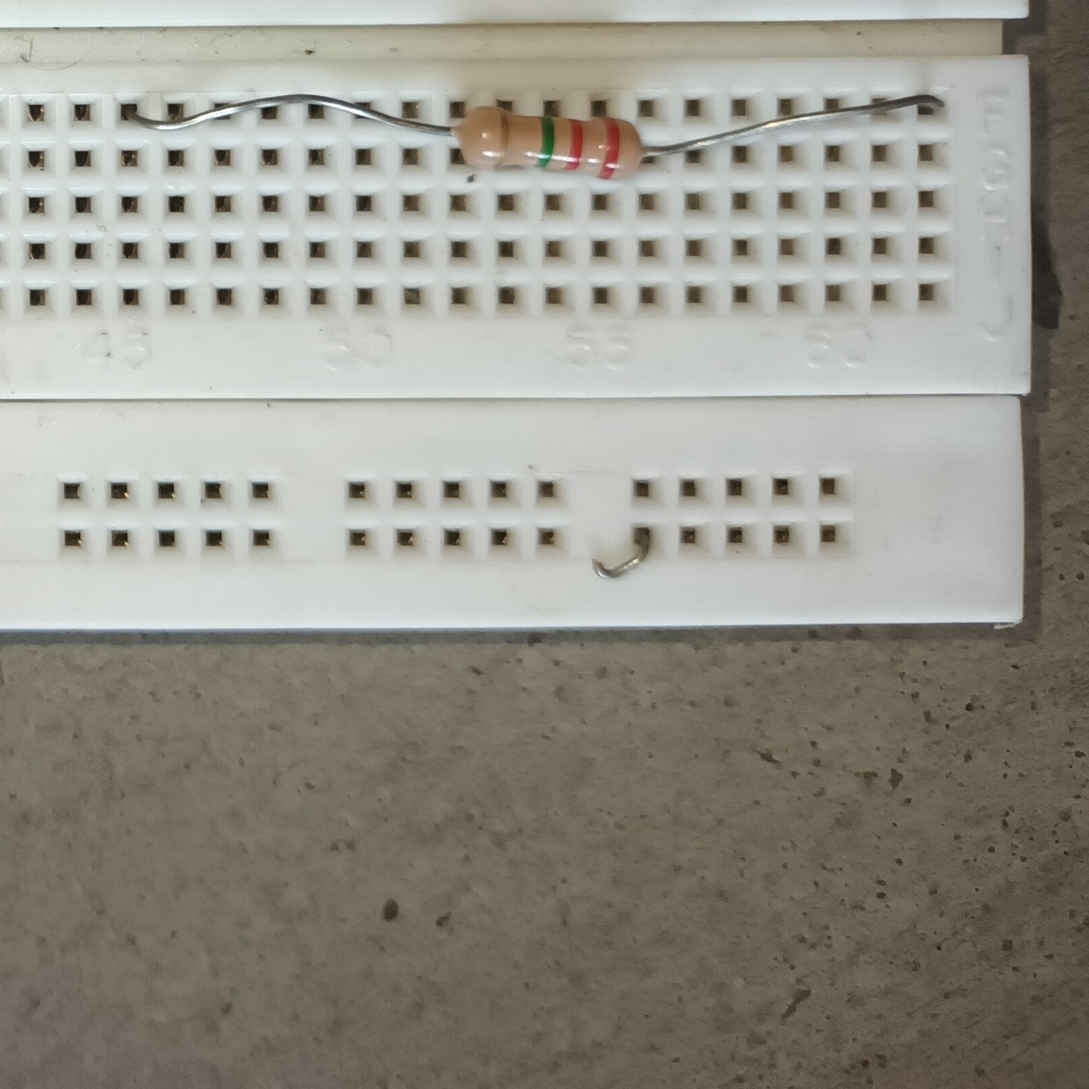resistor: (453, 101, 654, 187)
